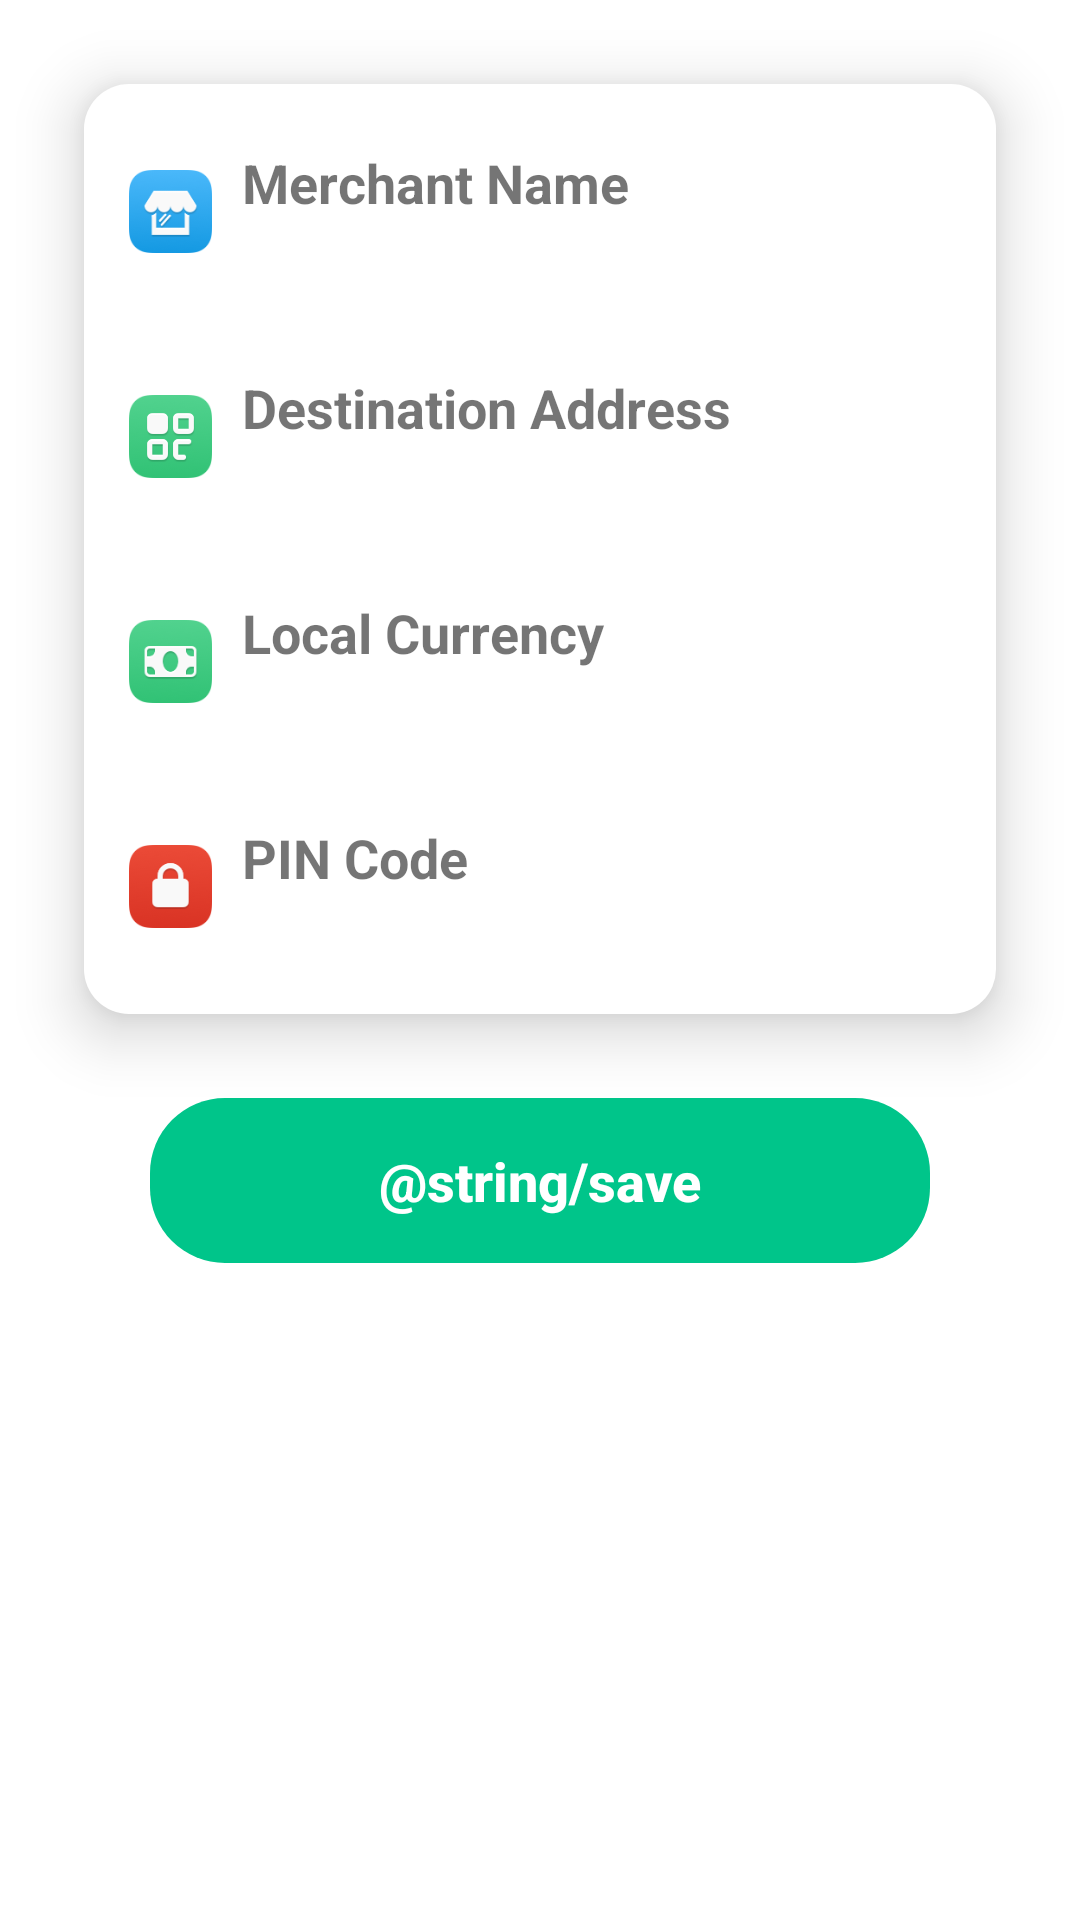

Icons on this 1080w x 1920h Android screen, each with its box as detection(x1, y1, x2, y2):
setting company name: detection(129, 170, 212, 253)
setting currency: detection(129, 620, 212, 703)
